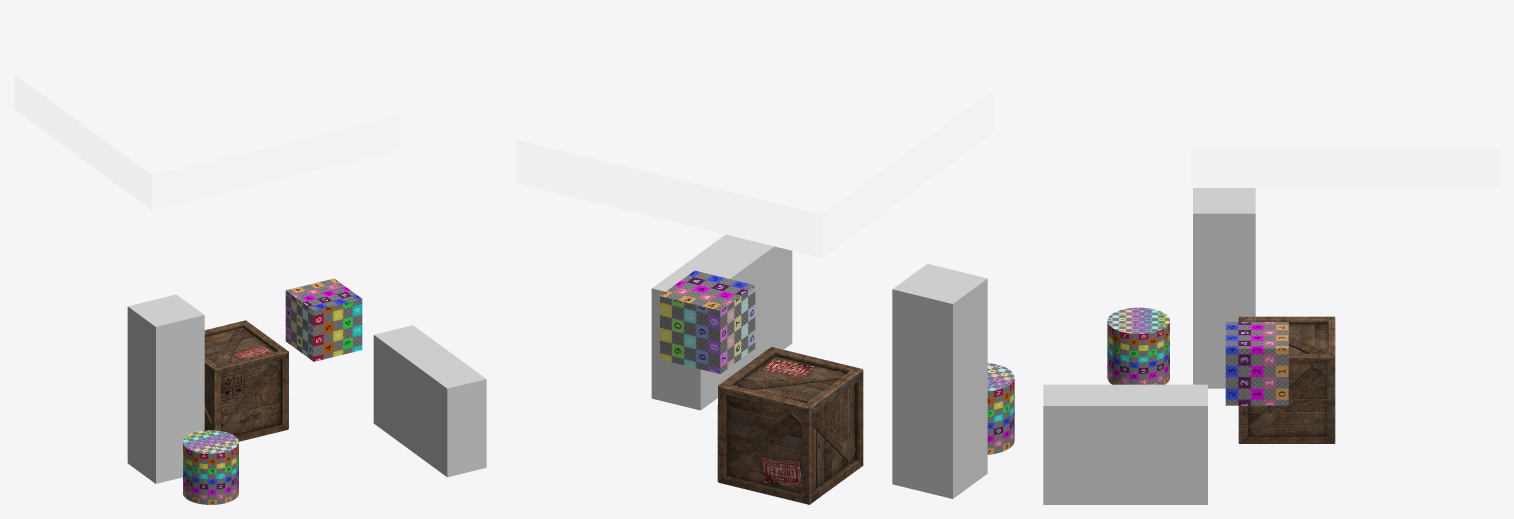
The model's file is pathtracer_test_texture.glb.
3 views of the same model, side by side, from view 1: azimuth 30°, elevation 25°; view 2: azimuth 150°, elevation 25°; view 3: azimuth 270°, elevation 25° (orthographic). The views are drawn at different scales.
Parts seen in each view (by area): view 1: Cube.002, Cube.001, Cube, Old Crate, Cube.003, Cylinder; view 2: Cube.002, Cube, Old Crate, Cube.001, Cube.003, Cylinder; view 3: Cube.002, Cube.001, Cube, Old Crate, Cube.003, Cylinder.
Boxes of the visible parts, x1,y1,x2,y2 form: Cube.002: (14, 14, 399, 210); Cube.001: (373, 325, 486, 477); Cube: (127, 294, 204, 483); Old Crate: (204, 320, 288, 441); Cube.003: (285, 278, 362, 361); Cylinder: (183, 430, 238, 504); Cube.002: (515, 14, 993, 257); Cube: (892, 264, 987, 498); Old Crate: (717, 347, 863, 504); Cube.001: (651, 234, 792, 410); Cube.003: (660, 270, 755, 373); Cylinder: (987, 363, 1014, 454); Cube.002: (1191, 14, 1499, 187); Cube.001: (1043, 384, 1207, 504); Cube: (1193, 188, 1255, 388); Old Crate: (1238, 316, 1335, 443); Cube.003: (1225, 322, 1288, 405); Cylinder: (1107, 307, 1169, 384).
Size of what is drawn, in the model's own units: 11 by 12.16 by 14.53.
Materials: 6 (3 with a texture image).
